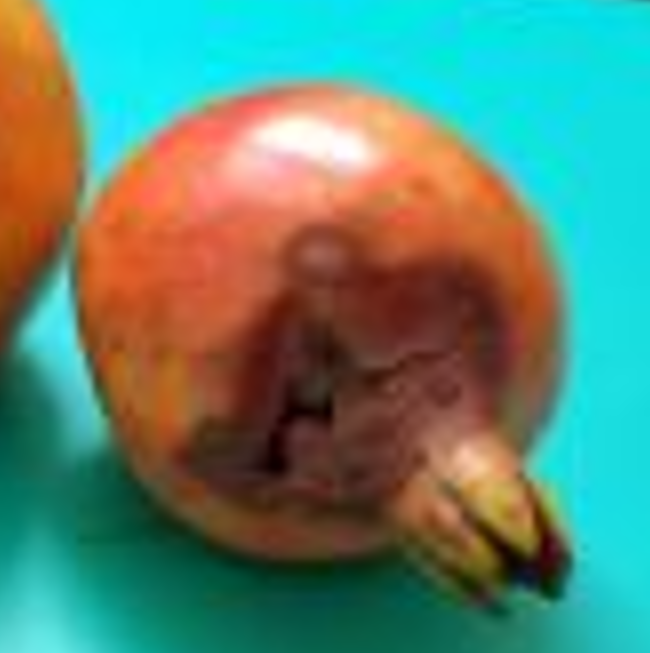pomegranate_C: (72, 83, 576, 617)
